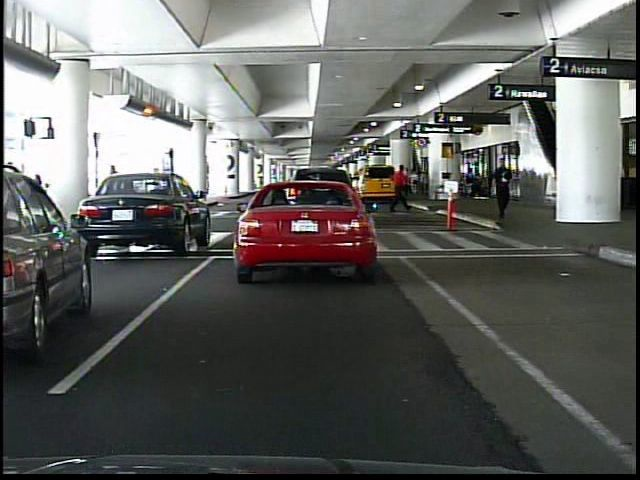person: (102, 162, 133, 239), (494, 156, 516, 222), (392, 163, 410, 216), (411, 165, 412, 201)
